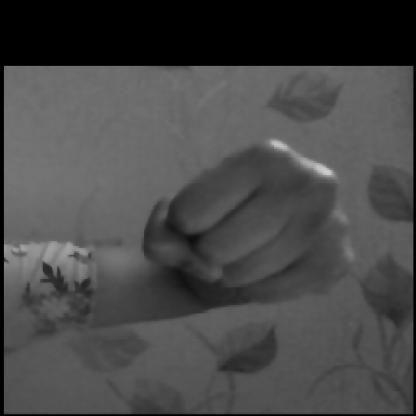fist: (95, 111, 361, 359)
